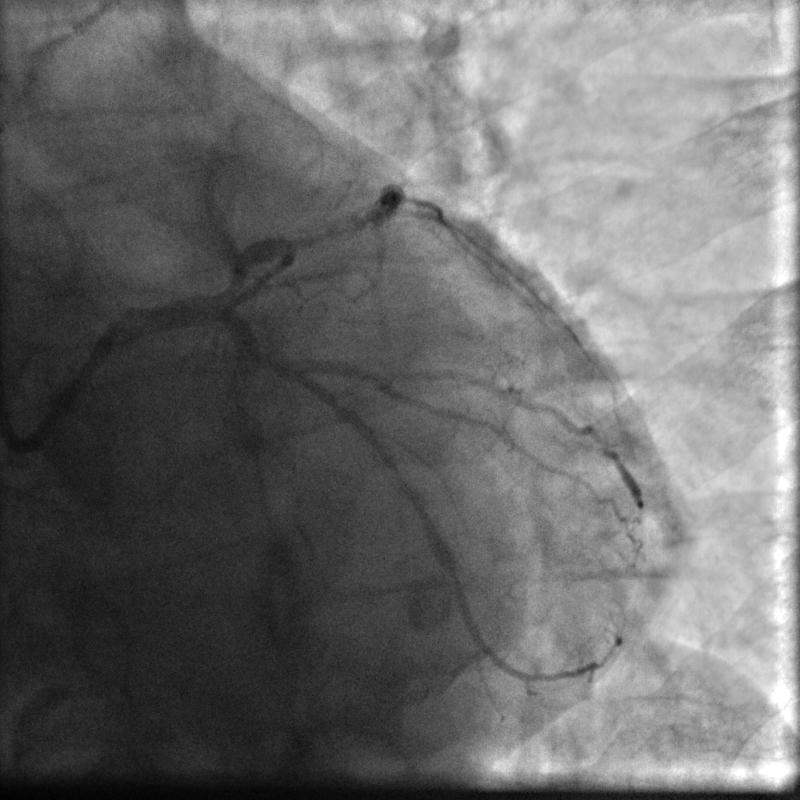Stenosis: (211, 247, 251, 298)
